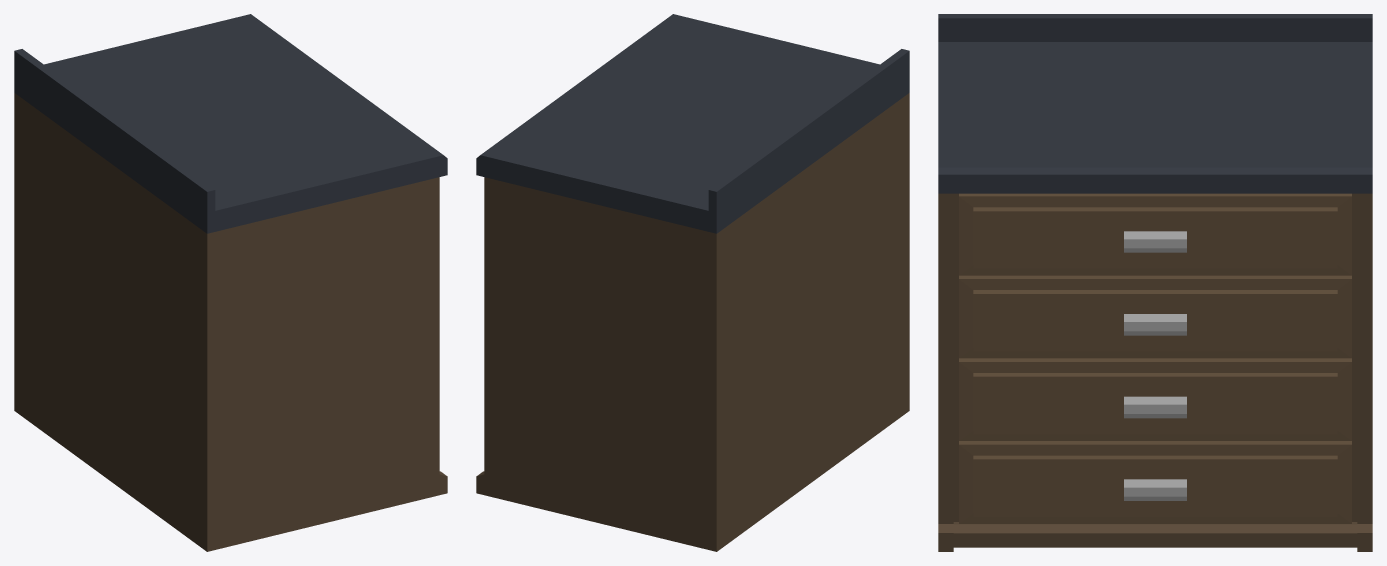
File: SM_kitchenCabinet_04.glb
3 renders of one model, left to right at view 1: azimuth 30°, elevation 25°; view 2: azimuth 150°, elevation 25°; view 3: azimuth 270°, elevation 25°, orthographic. The views are drawn at different scales.
Parts seen in each view (by area): view 1: SM_kitchenCabinet_04; view 2: SM_kitchenCabinet_04; view 3: SM_kitchenCabinet_04.
Boxes of the visible parts, bbox=[...] form: SM_kitchenCabinet_04: bbox=[14, 14, 447, 551]; SM_kitchenCabinet_04: bbox=[476, 14, 909, 551]; SM_kitchenCabinet_04: bbox=[938, 14, 1372, 551].
Bounding box in the file's own units: 0.7492 × 1.03 × 1.
Materials: 1 (1 with a texture image).
